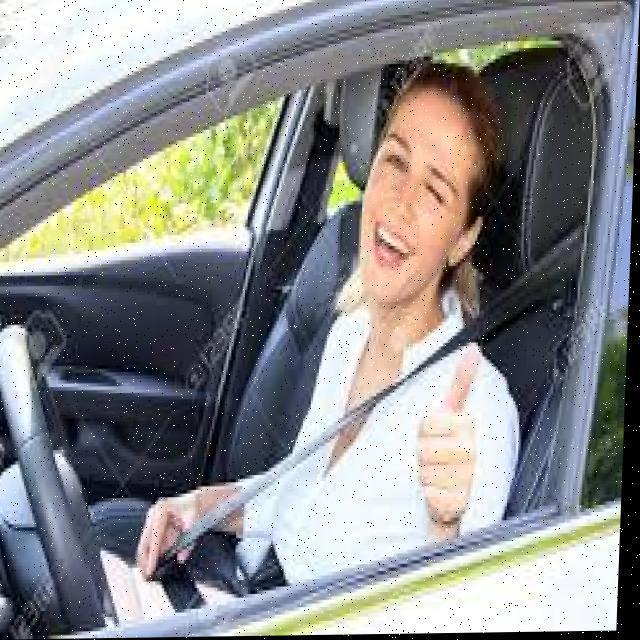seatbelt: (272, 298, 478, 576)
